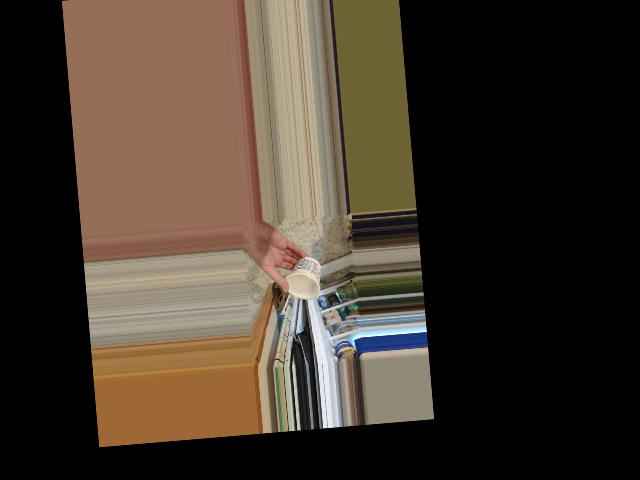cotage: (284, 256, 320, 300)
